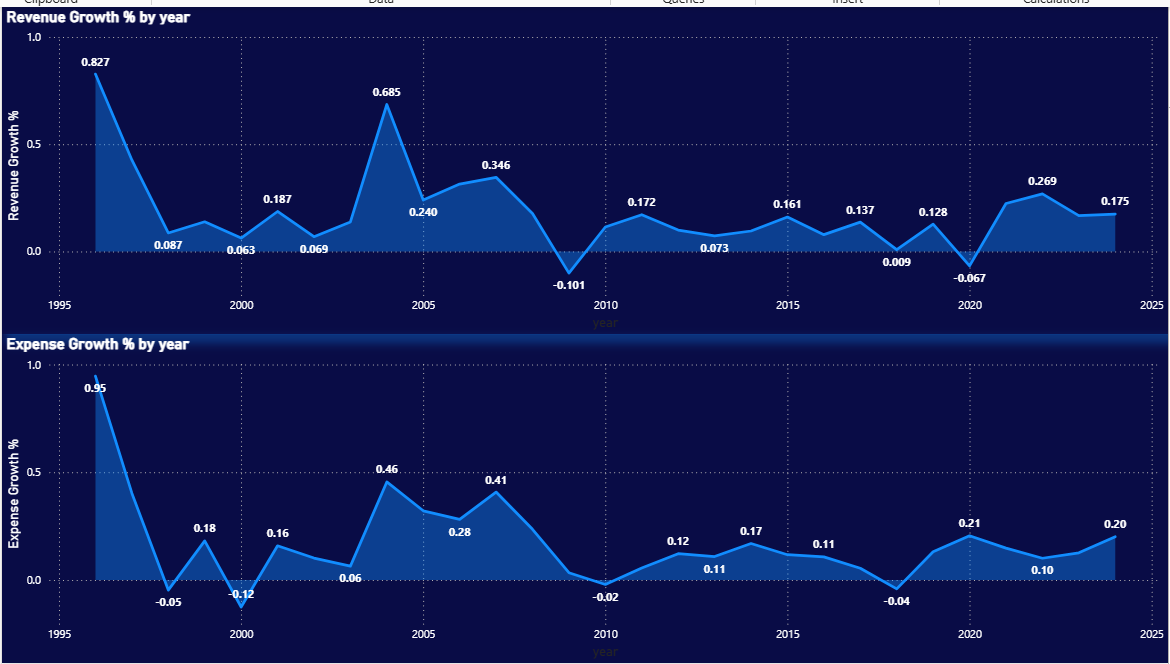

The dashboard page shown, as its layout file describes it:
{"tool":"powerbi","page":{"name":"Page 5","canvas":[1280,720],"ordinal":3},"visuals":[{"type":"lineChart","fields":{"Y":["GG_ge.Revenue Growth %"],"Category":["GG_ge.year"]},"box":[0,0,1280.3,359.5],"z":0},{"type":"lineChart","fields":{"Category":["GG_ge.year"],"Y":["GG_ge.Expense Growth %"]},"box":[0,359.5,1280.3,360.9],"z":1000}]}

Visuals, with their boxes on the page's 1280x720 design canvas (x1, y1, x2, y2). These are canvas units, not pixel positions in the 1170x664 screenshot, which may show the page scaled, cropped or inside an application window:
lineChart - GG_ge.Revenue Growth % x GG_ge.year: pyautogui.locateOnScreen(0, 0, 1280, 360)
lineChart - GG_ge.year x GG_ge.Expense Growth %: pyautogui.locateOnScreen(0, 360, 1280, 720)
